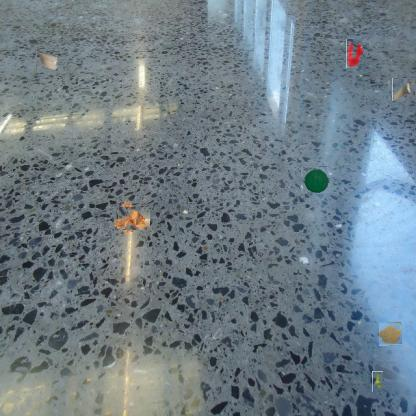dirty: (116, 203, 147, 233), (302, 166, 330, 194), (392, 78, 415, 101), (36, 49, 58, 71), (372, 371, 383, 392)
liquid: (379, 322, 402, 346), (346, 38, 363, 68)
